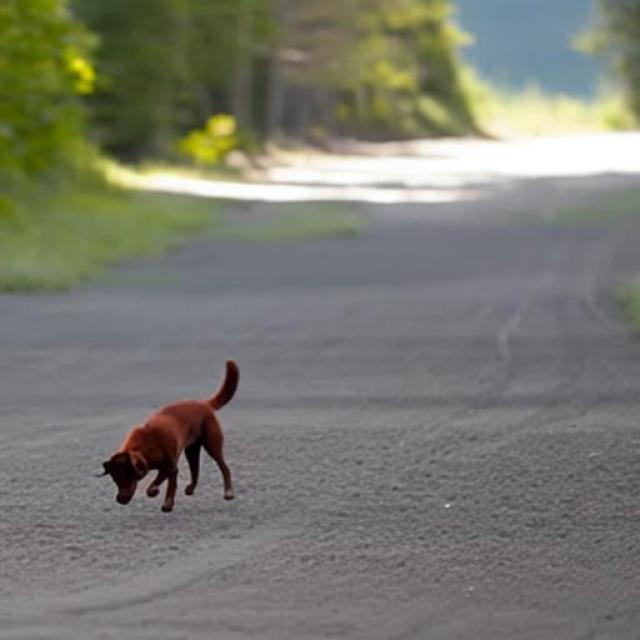Dog: (90, 360, 240, 512)
